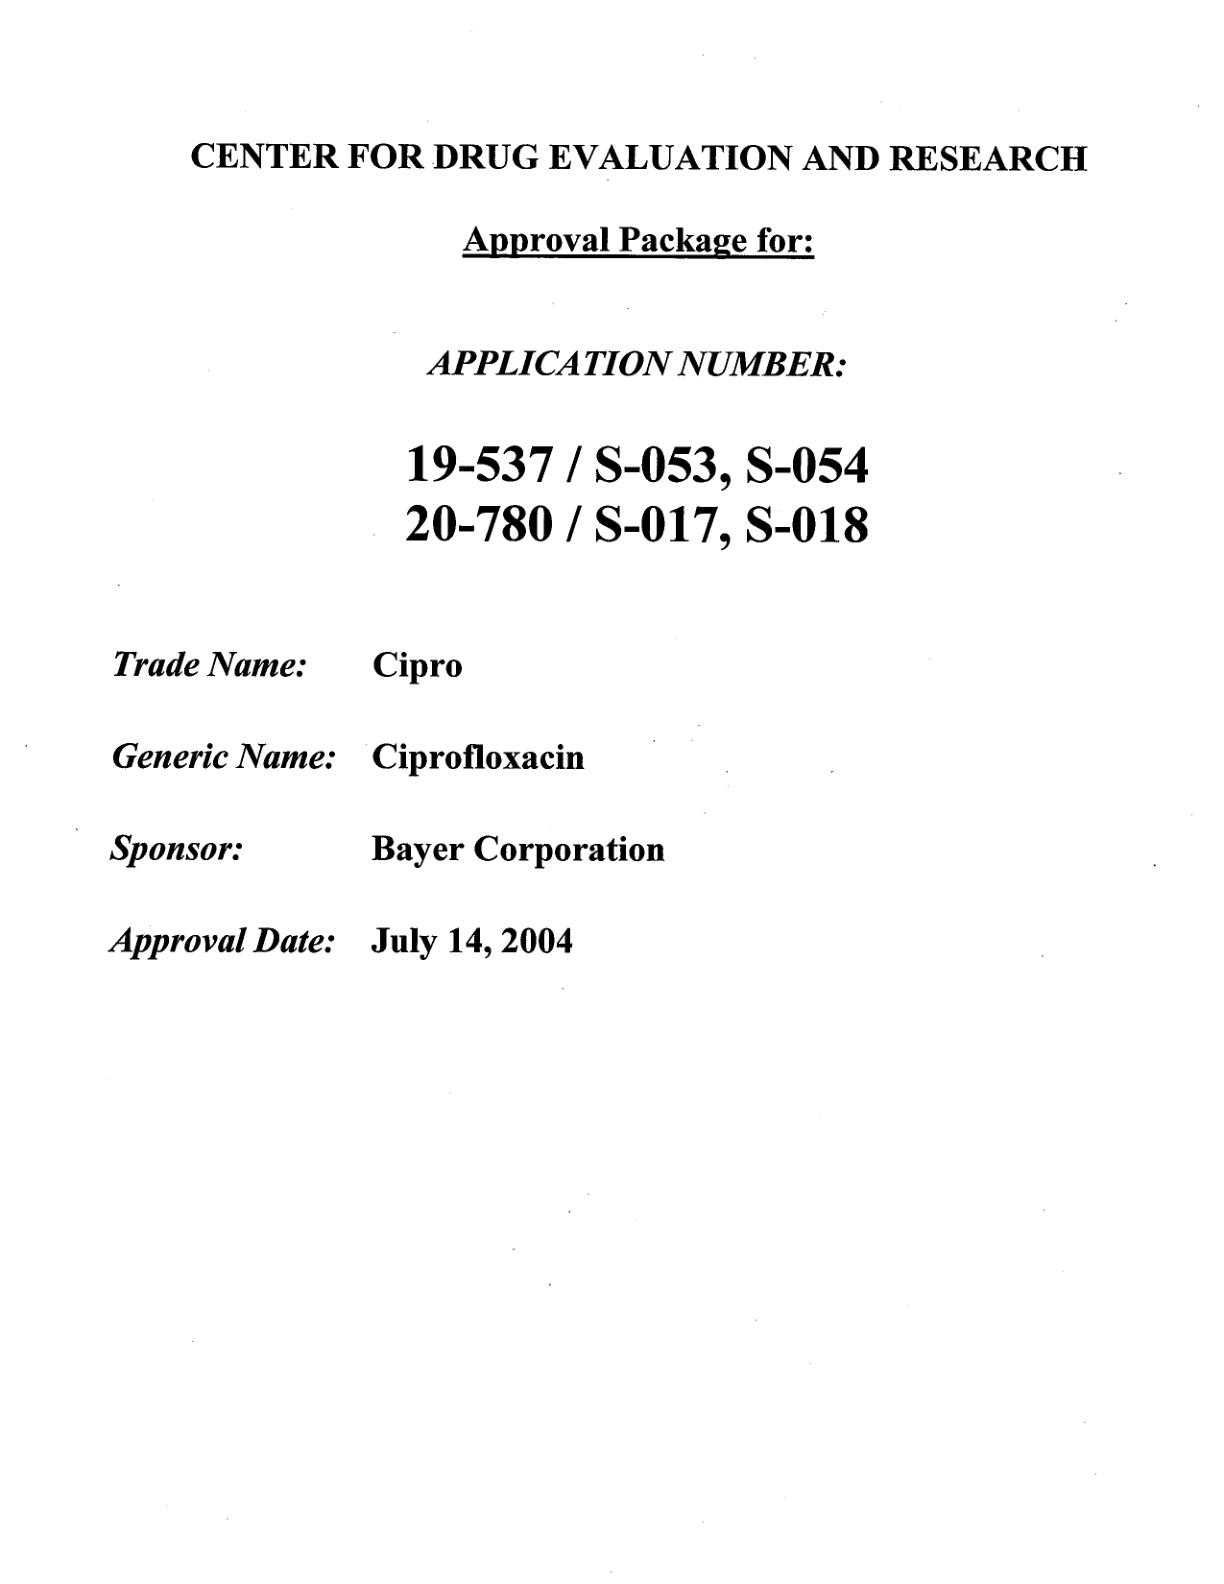nolines: (108, 645, 669, 963)
